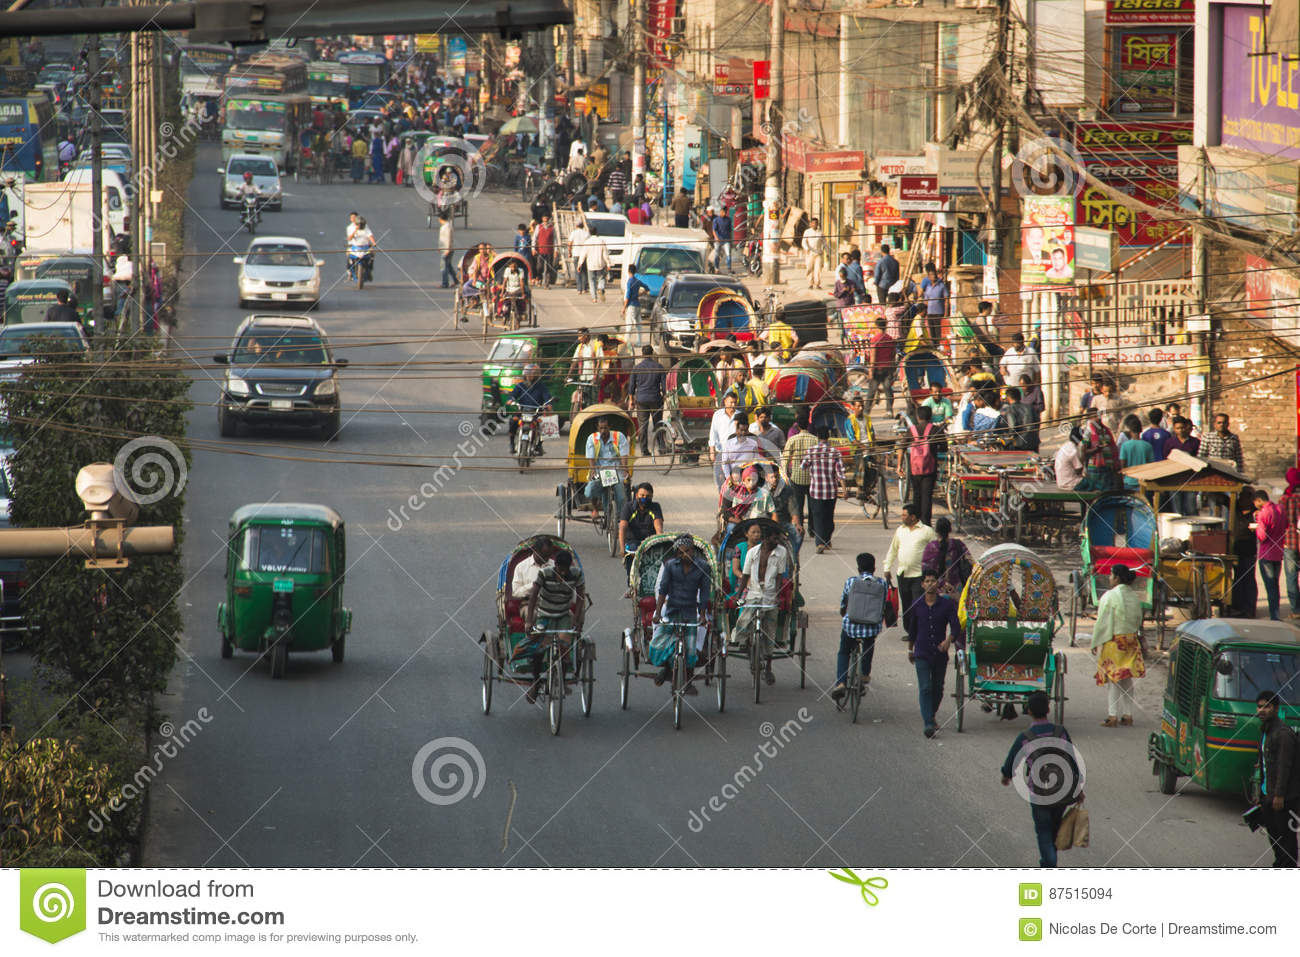5: (939, 543, 1090, 739), (478, 530, 599, 726), (615, 529, 728, 736), (556, 405, 647, 560)
bus: (1149, 605, 1300, 804), (207, 501, 360, 671)
car: (209, 311, 351, 434), (229, 230, 325, 307)
